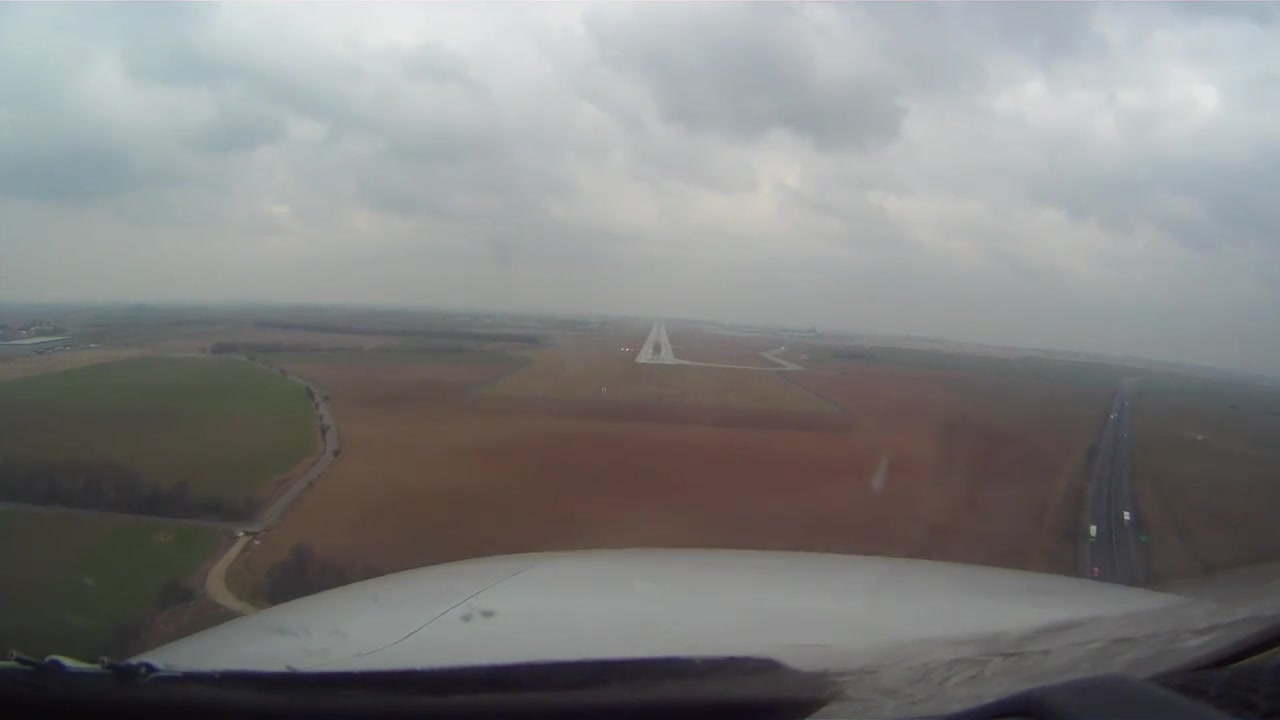runway: (635, 324, 678, 367)
